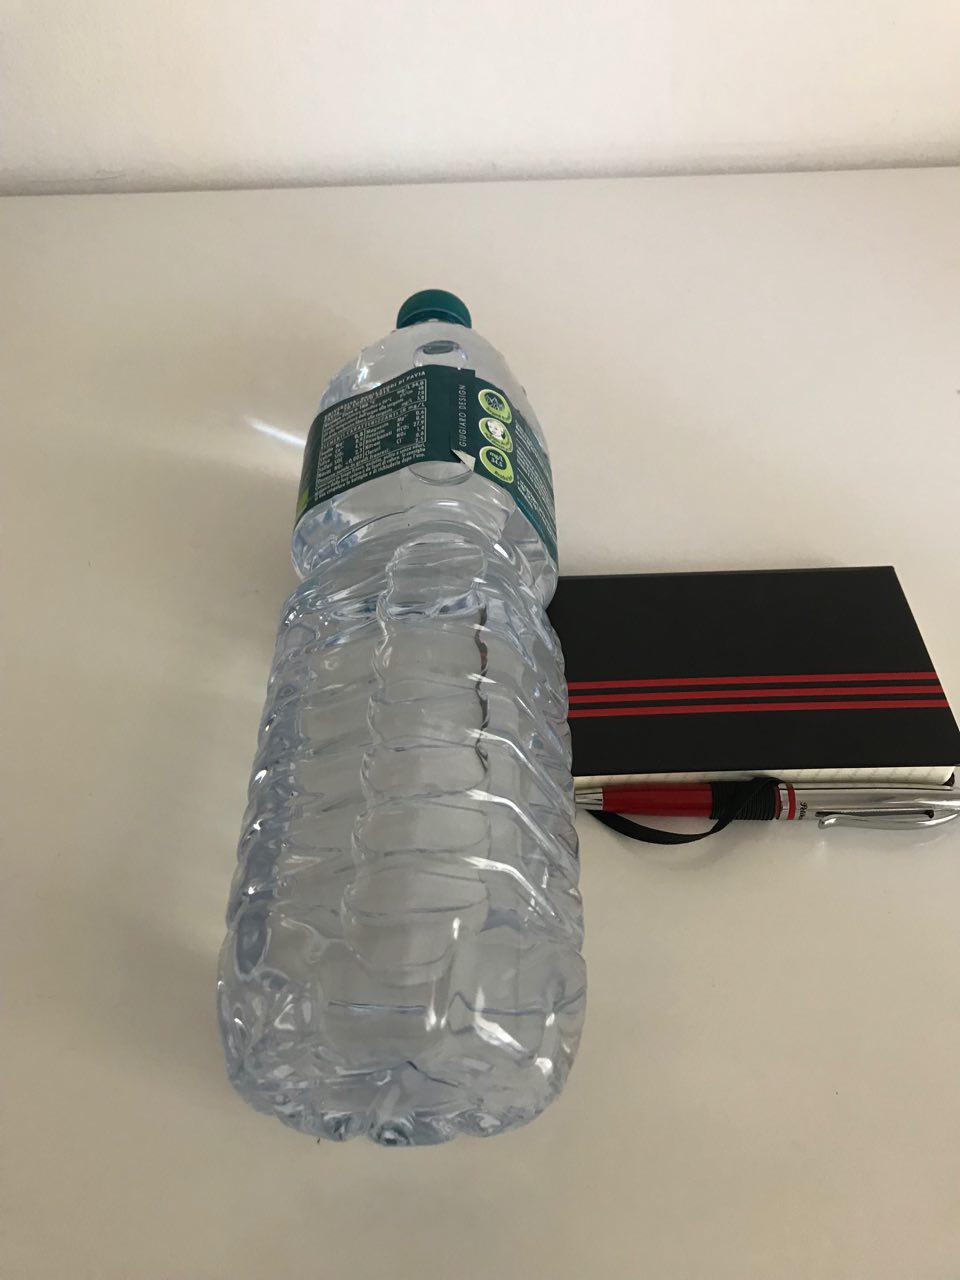san_bernardo: (211, 285, 590, 1150)
